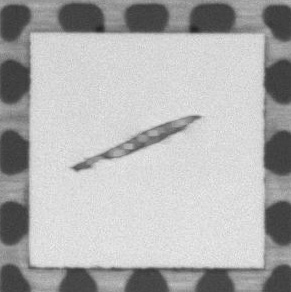DIE_INK: (68, 112, 202, 173)
